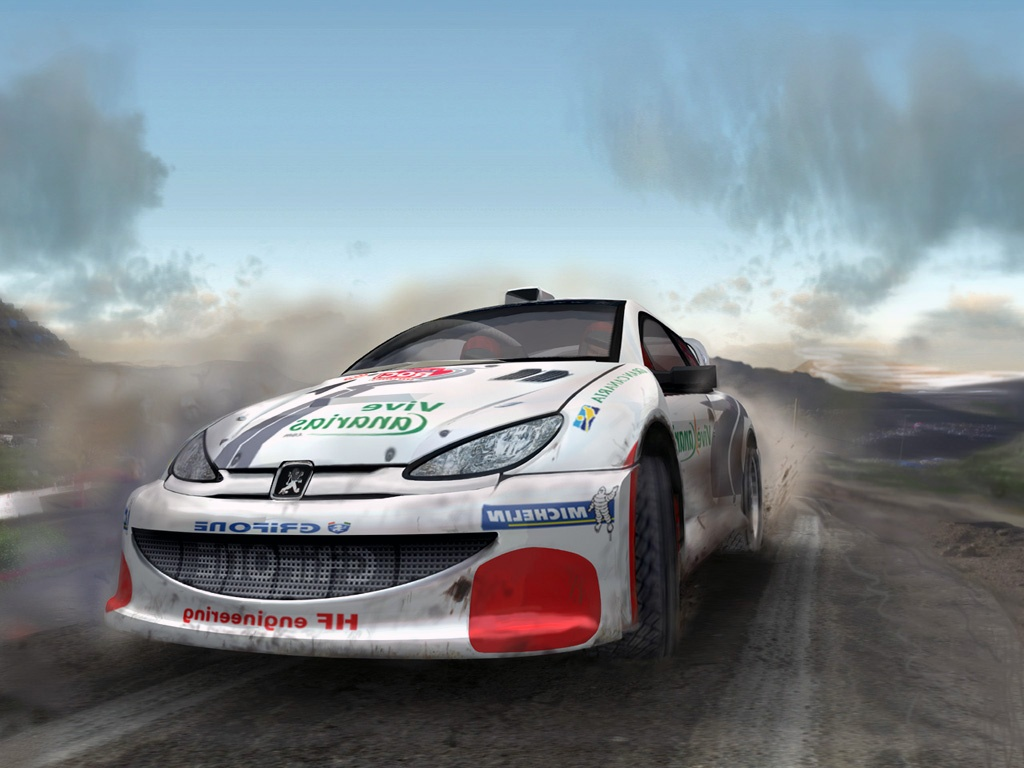racing car: (110, 239, 762, 677)
